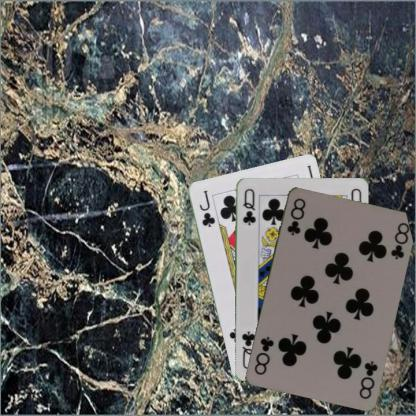8c: (356, 358, 379, 400), (284, 196, 306, 236)
Jc: (197, 187, 216, 228)
Qc: (240, 185, 256, 226)
